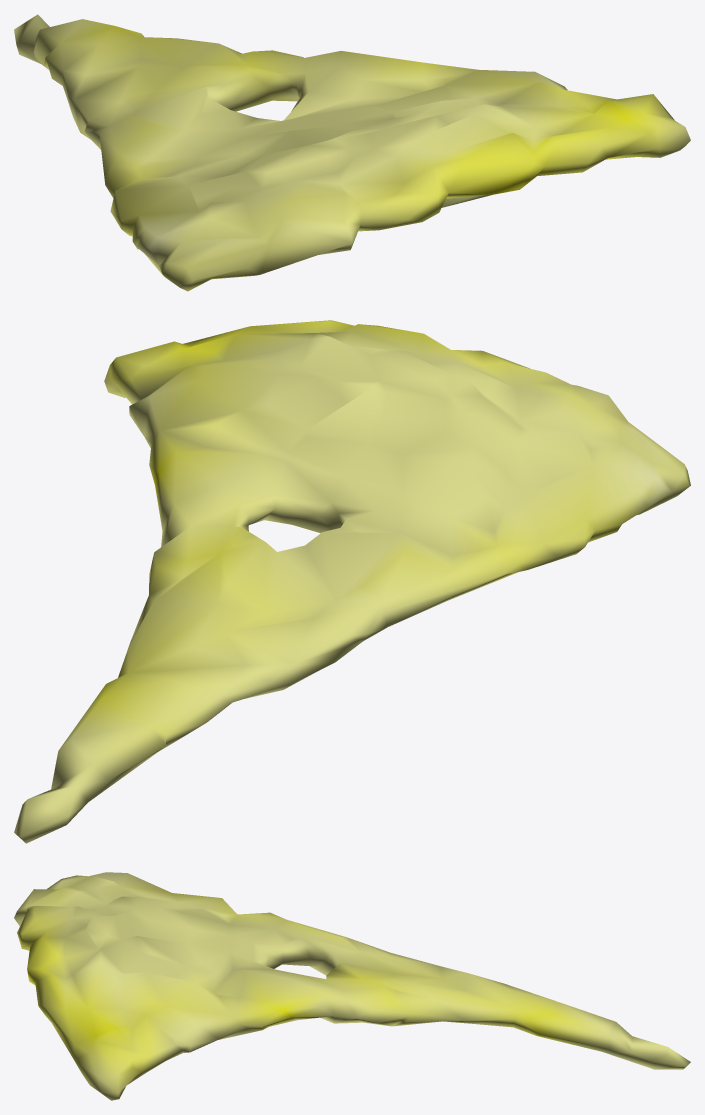
3 renders of one model, top to bottom at view 1: azimuth 30°, elevation 25°; view 2: azimuth 150°, elevation 25°; view 3: azimuth 270°, elevation 25°, orthographic. The views are drawn at different scales.
Parts seen in each view (by area): view 1: LOD 3_12822544702743451033_820756dedd5b3434c8e6bed8ae6a193b; view 2: LOD 3_12822544702743451033_820756dedd5b3434c8e6bed8ae6a193b; view 3: LOD 3_12822544702743451033_820756dedd5b3434c8e6bed8ae6a193b.
Part boxes in pixels (<box>): LOD 3_12822544702743451033_820756dedd5b3434c8e6bed8ae6a193b: <box>14,14,690,291</box>; LOD 3_12822544702743451033_820756dedd5b3434c8e6bed8ae6a193b: <box>14,320,690,843</box>; LOD 3_12822544702743451033_820756dedd5b3434c8e6bed8ae6a193b: <box>14,872,690,1100</box>.
Size of the model in its own units: 3.1 by 1.07 by 4.35.
